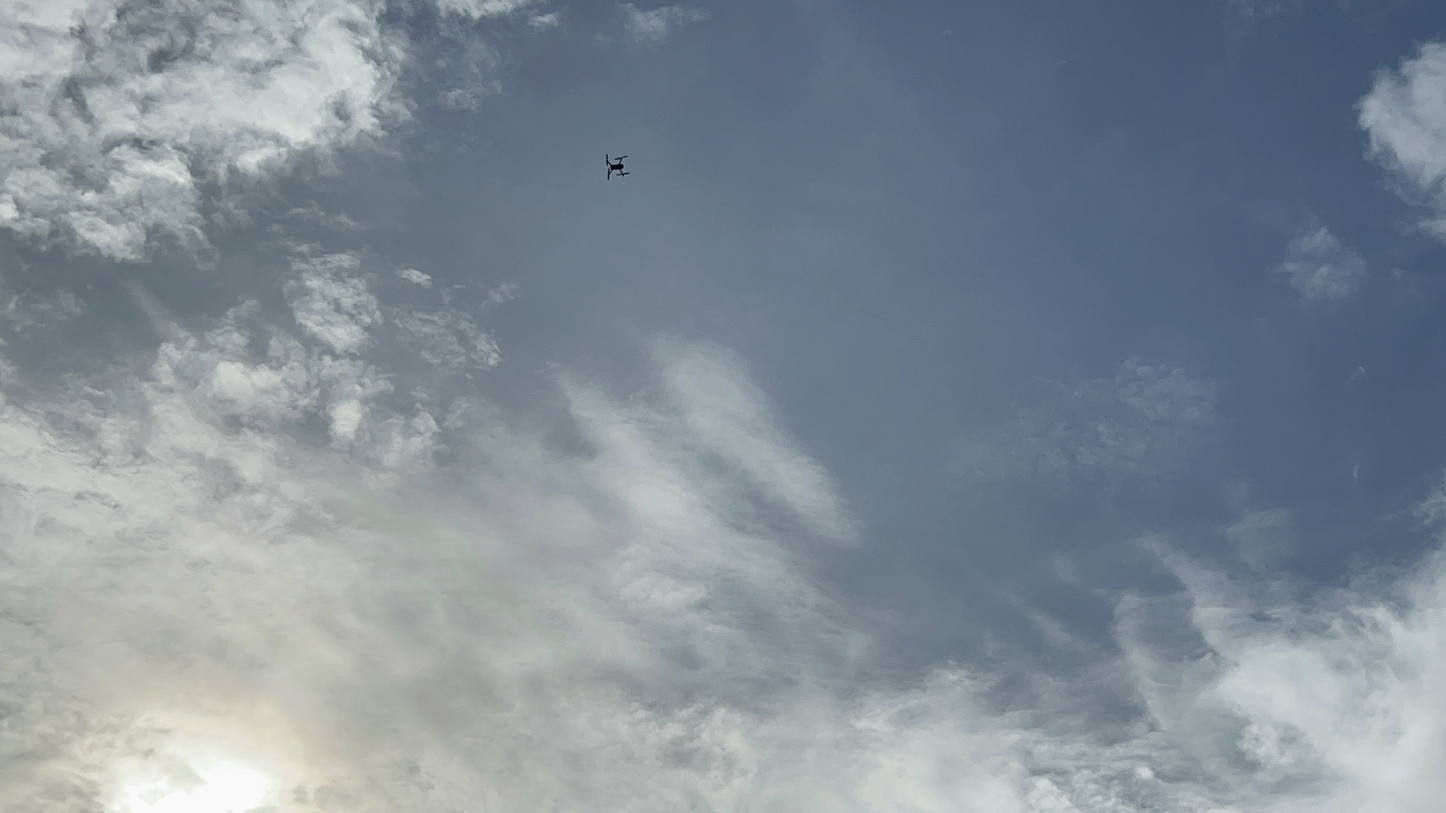drone_other: (602, 152, 633, 182)
